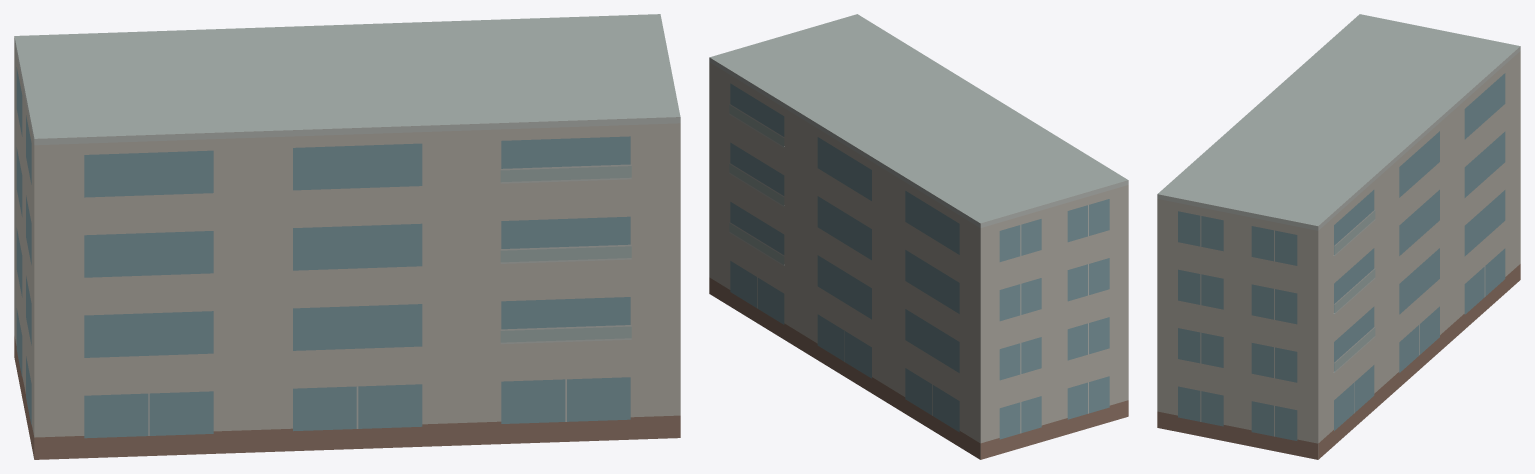
The model's file is survey-upis-32634249.glb.
The picture shows the model from 3 angles, left to right: view 1: azimuth 30°, elevation 25°; view 2: azimuth 150°, elevation 25°; view 3: azimuth 270°, elevation 25°; orthographic projection. The views are drawn at different scales.
Visible parts, largest first — view 1: survey-upis-32634249.tmp; view 2: survey-upis-32634249.tmp; view 3: survey-upis-32634249.tmp.
Part boxes in pixels (left/top/right/bottom): survey-upis-32634249.tmp: left=14, top=14, right=680, bottom=459; survey-upis-32634249.tmp: left=709, top=14, right=1128, bottom=459; survey-upis-32634249.tmp: left=1157, top=14, right=1520, bottom=459.
Size of the model in its own units: 23.78 by 12.2 by 17.2.
